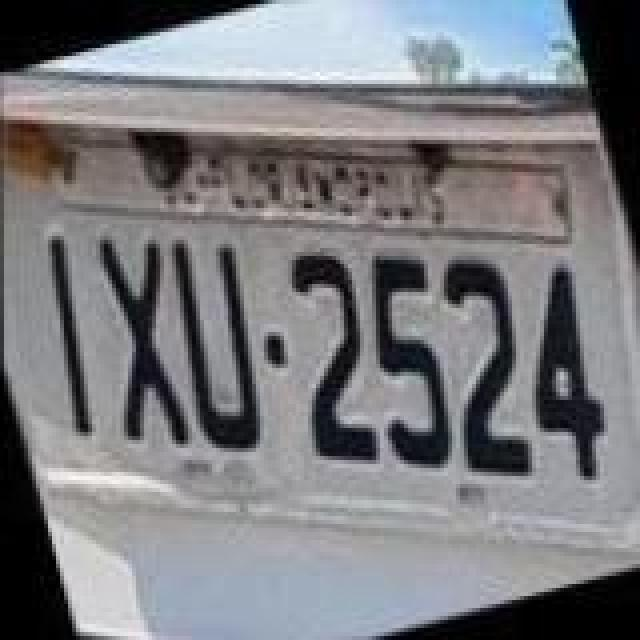1: (22, 232, 118, 440)
2: (410, 250, 554, 498), (262, 240, 398, 480)
4: (500, 258, 628, 494)
5: (340, 238, 480, 478)
U: (150, 226, 286, 466)
X: (72, 224, 212, 464)
